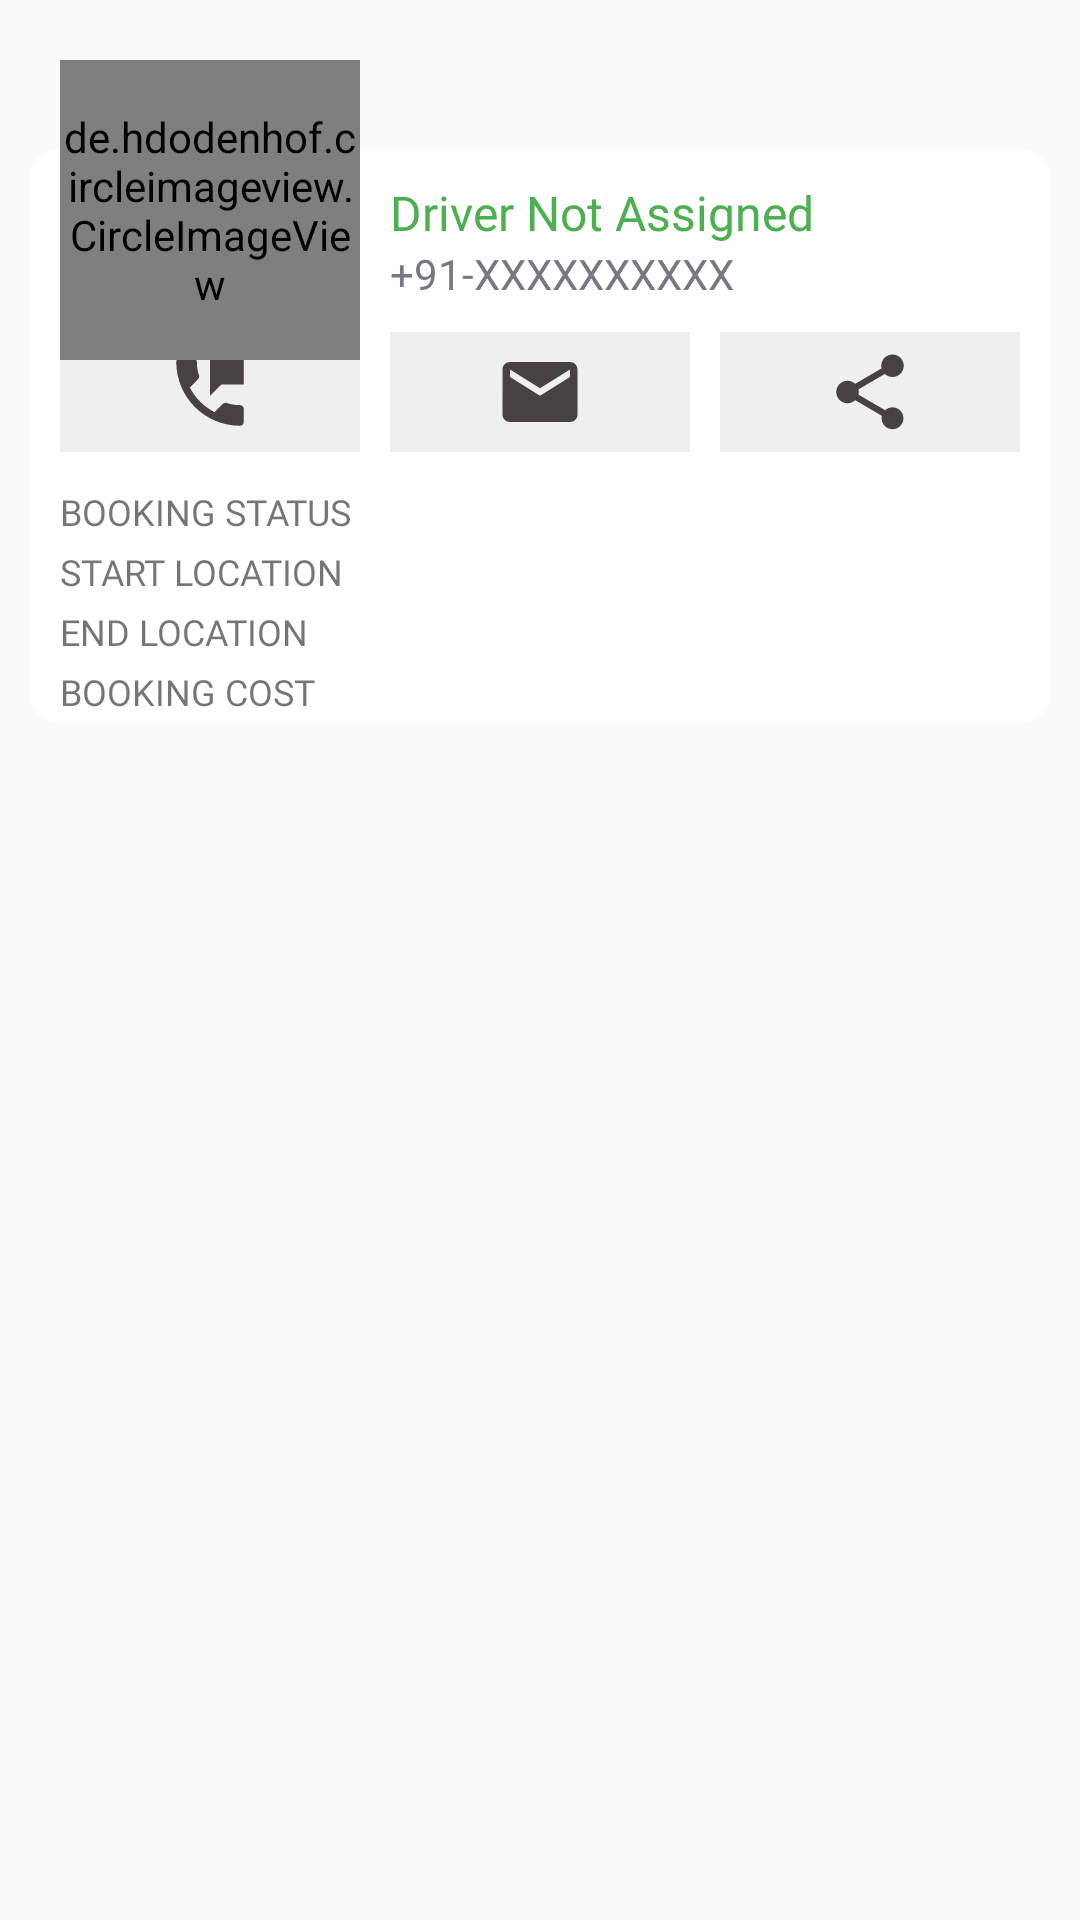

Where to tap for icons on this 1080×1920 app screen, as [x,y]:
call: [210,386]
email: [540,392]
share: [870,392]
